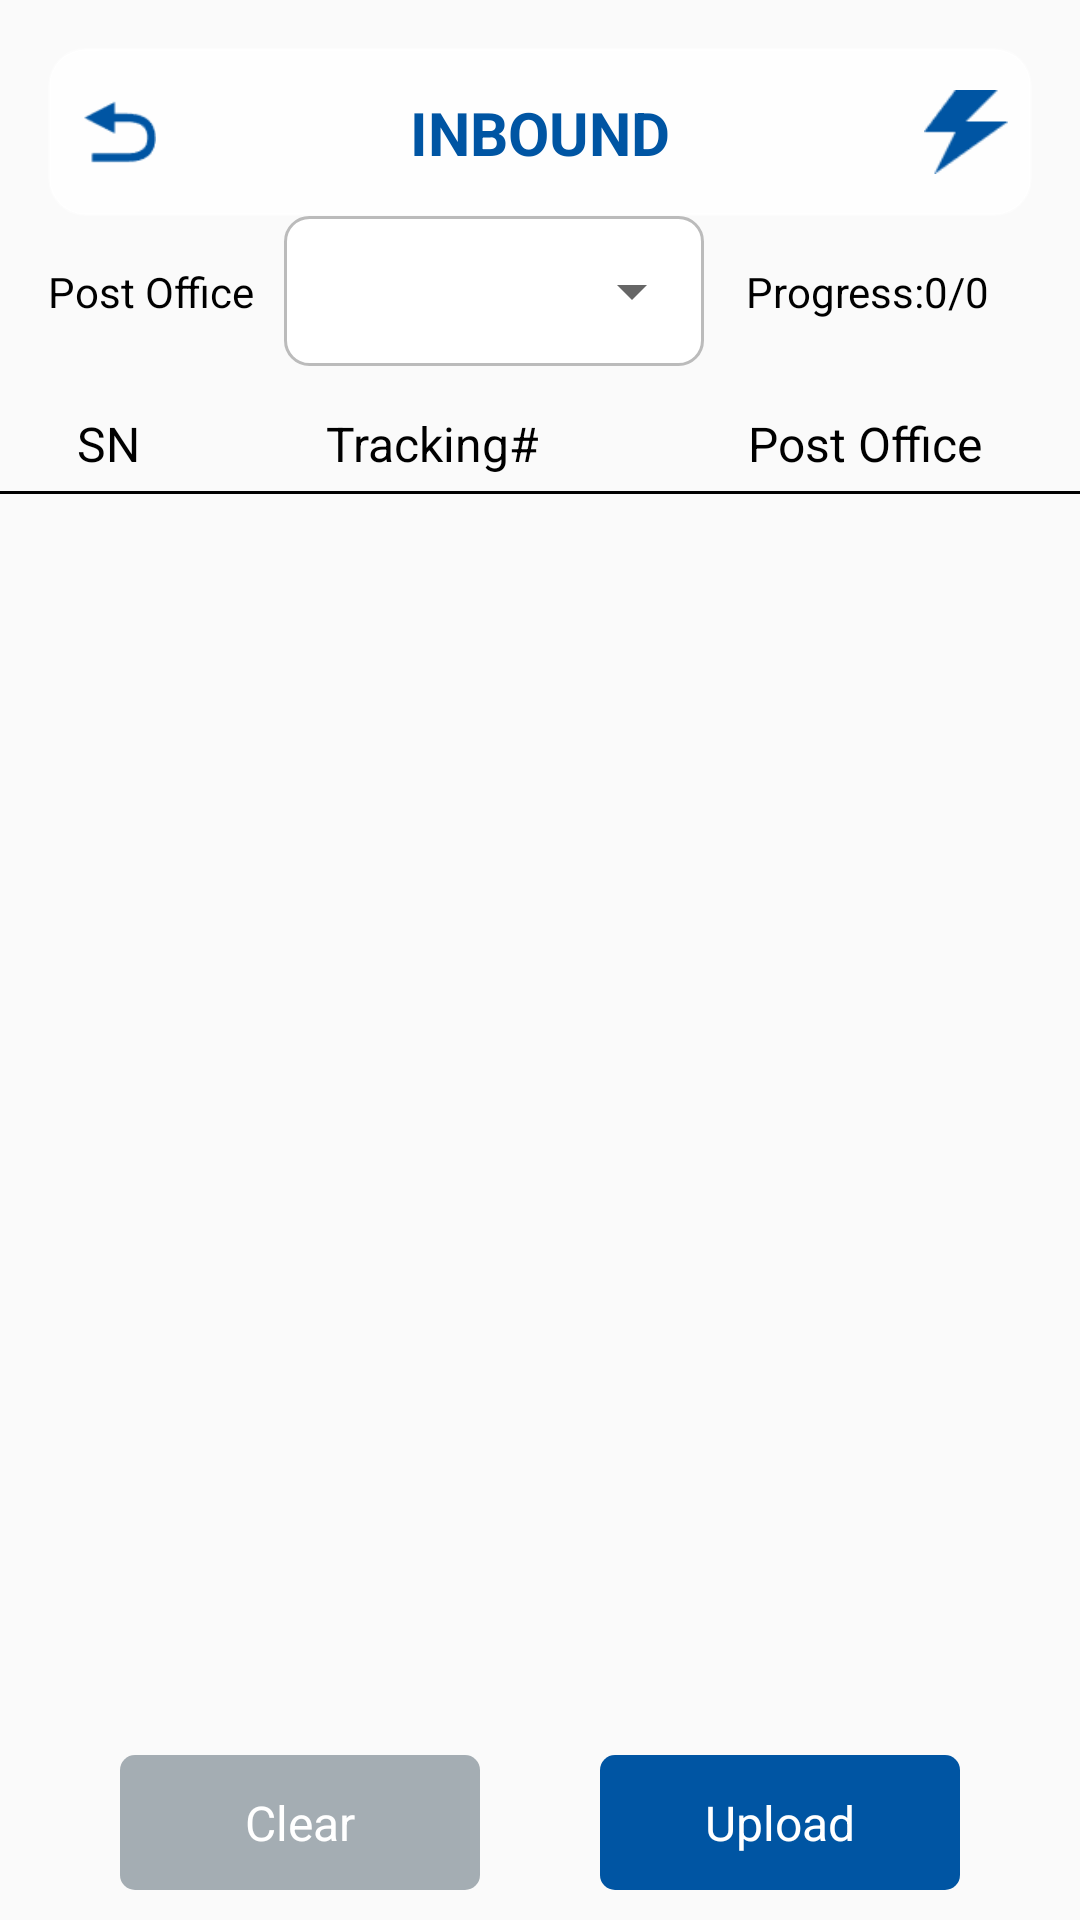

Icons on this 1080 x 1920 Android screen, each with the point to tap as (x,y):
back: (120,132)
power: (966,132)
